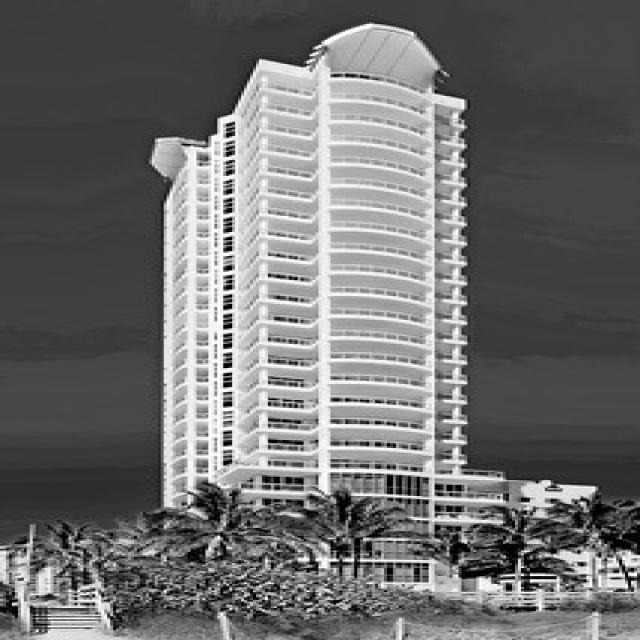building: (143, 16, 479, 552)
